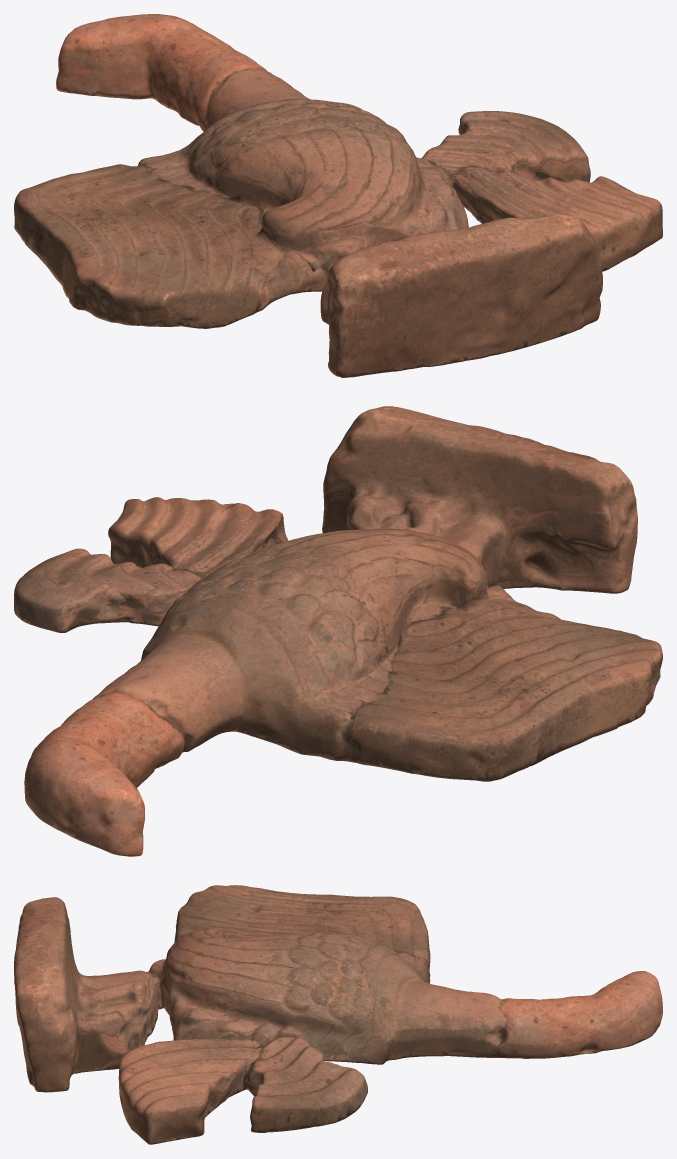
Rendered from MysonMuseum_chimhamsa_final.glb.
The picture shows the model from 3 angles, top to bottom: view 1: azimuth 30°, elevation 25°; view 2: azimuth 150°, elevation 25°; view 3: azimuth 270°, elevation 25°; orthographic projection. The views are drawn at different scales.
Bounding box in the file's own units: 0.5038 × 0.1089 × 0.6333.
1 material, 1 textured.
